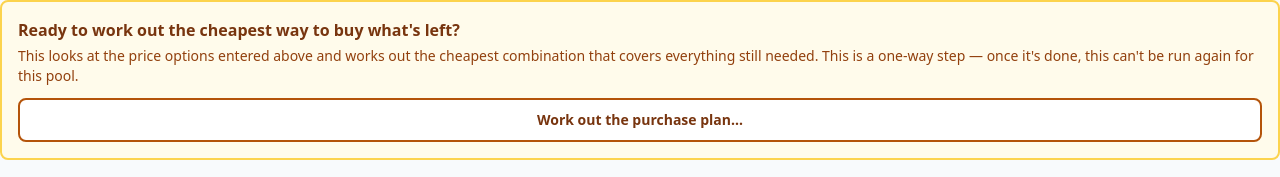
Test case: GeneratePurchasePlanAction › requires a second, explicit step before actually running (one-way action)
Later steps or results of the test are not shown.
Check: the button "yes, work it out" is not shown
Step 1. Click the button "Work out the purchase plan…" → (640,120), box [18,98,1262,142]
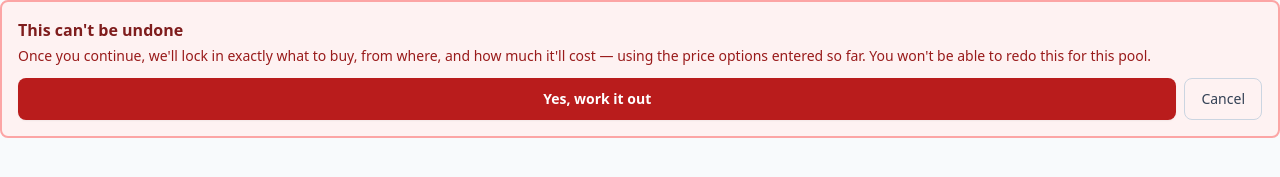
Check: the heading "This can't be undone" is shown, box [18,19,183,41]
